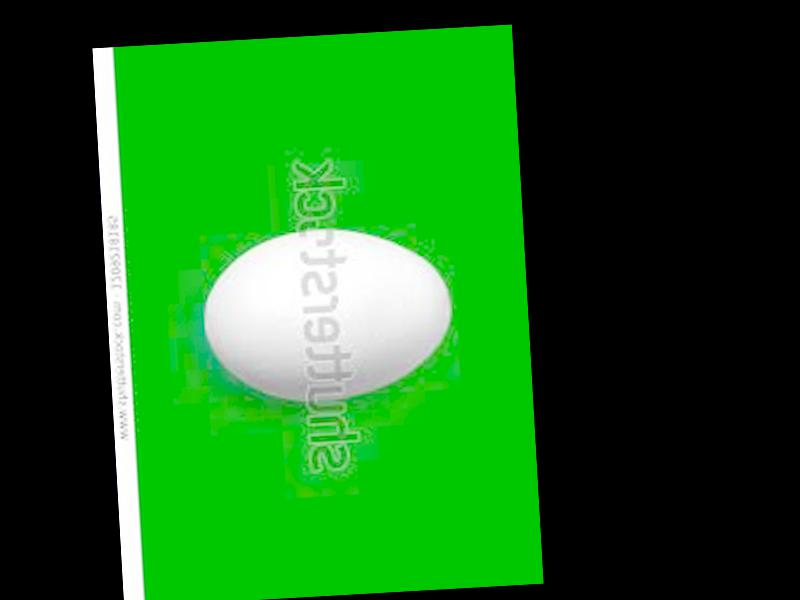Eggs: (201, 223, 455, 408)
